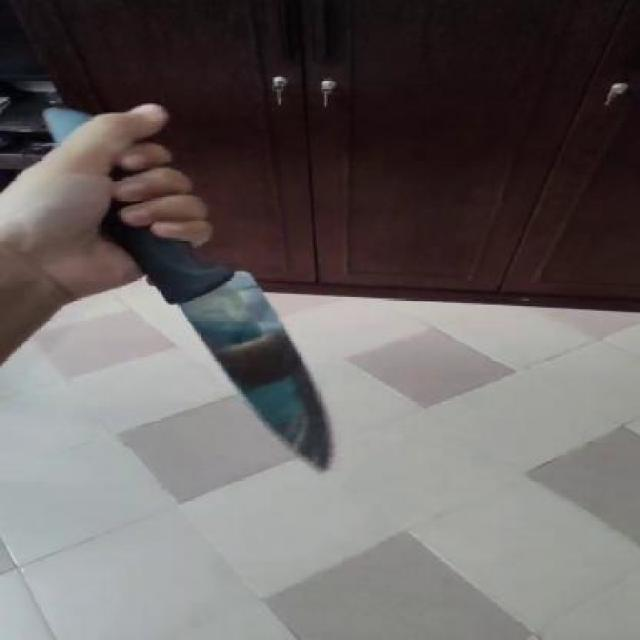-: (171, 268, 372, 471)
